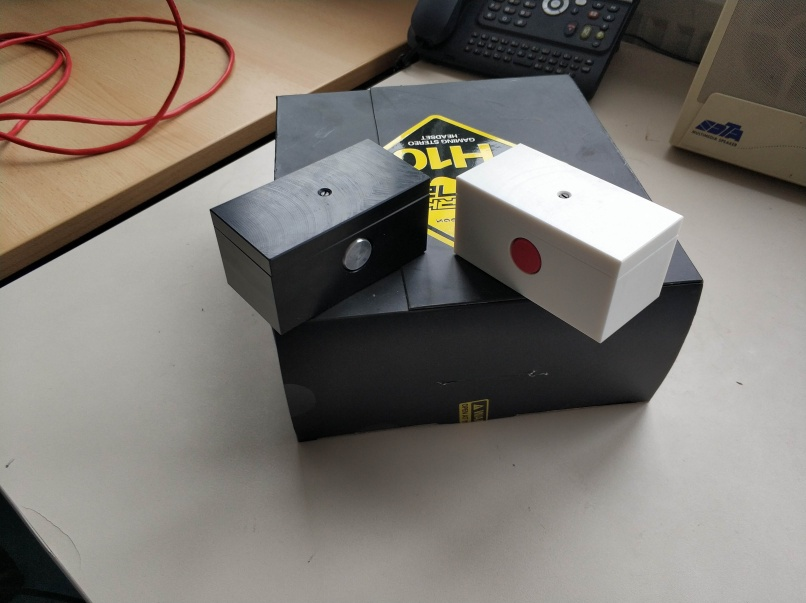black+black+silver: (207, 132, 435, 338)
white+white+red: (451, 138, 684, 349)
